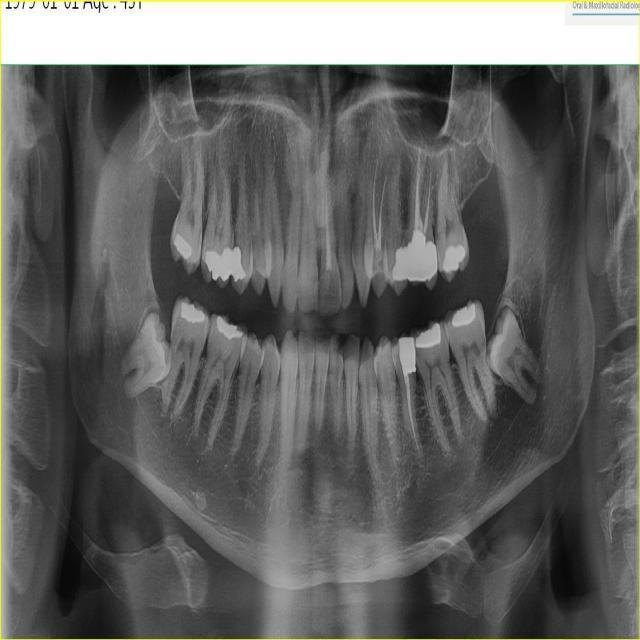74: (368, 158, 388, 250), (405, 373, 419, 458), (410, 155, 423, 232), (422, 171, 435, 236), (326, 187, 331, 270)
NucleOSS Implant: (403, 227, 437, 283), (412, 321, 448, 354), (204, 248, 234, 282), (168, 230, 196, 262), (175, 299, 206, 327), (212, 316, 244, 343), (225, 246, 247, 282), (399, 336, 418, 374), (442, 245, 467, 272), (450, 303, 478, 325), (393, 244, 408, 281)
Sterngold Implant: (337, 261, 345, 289)
